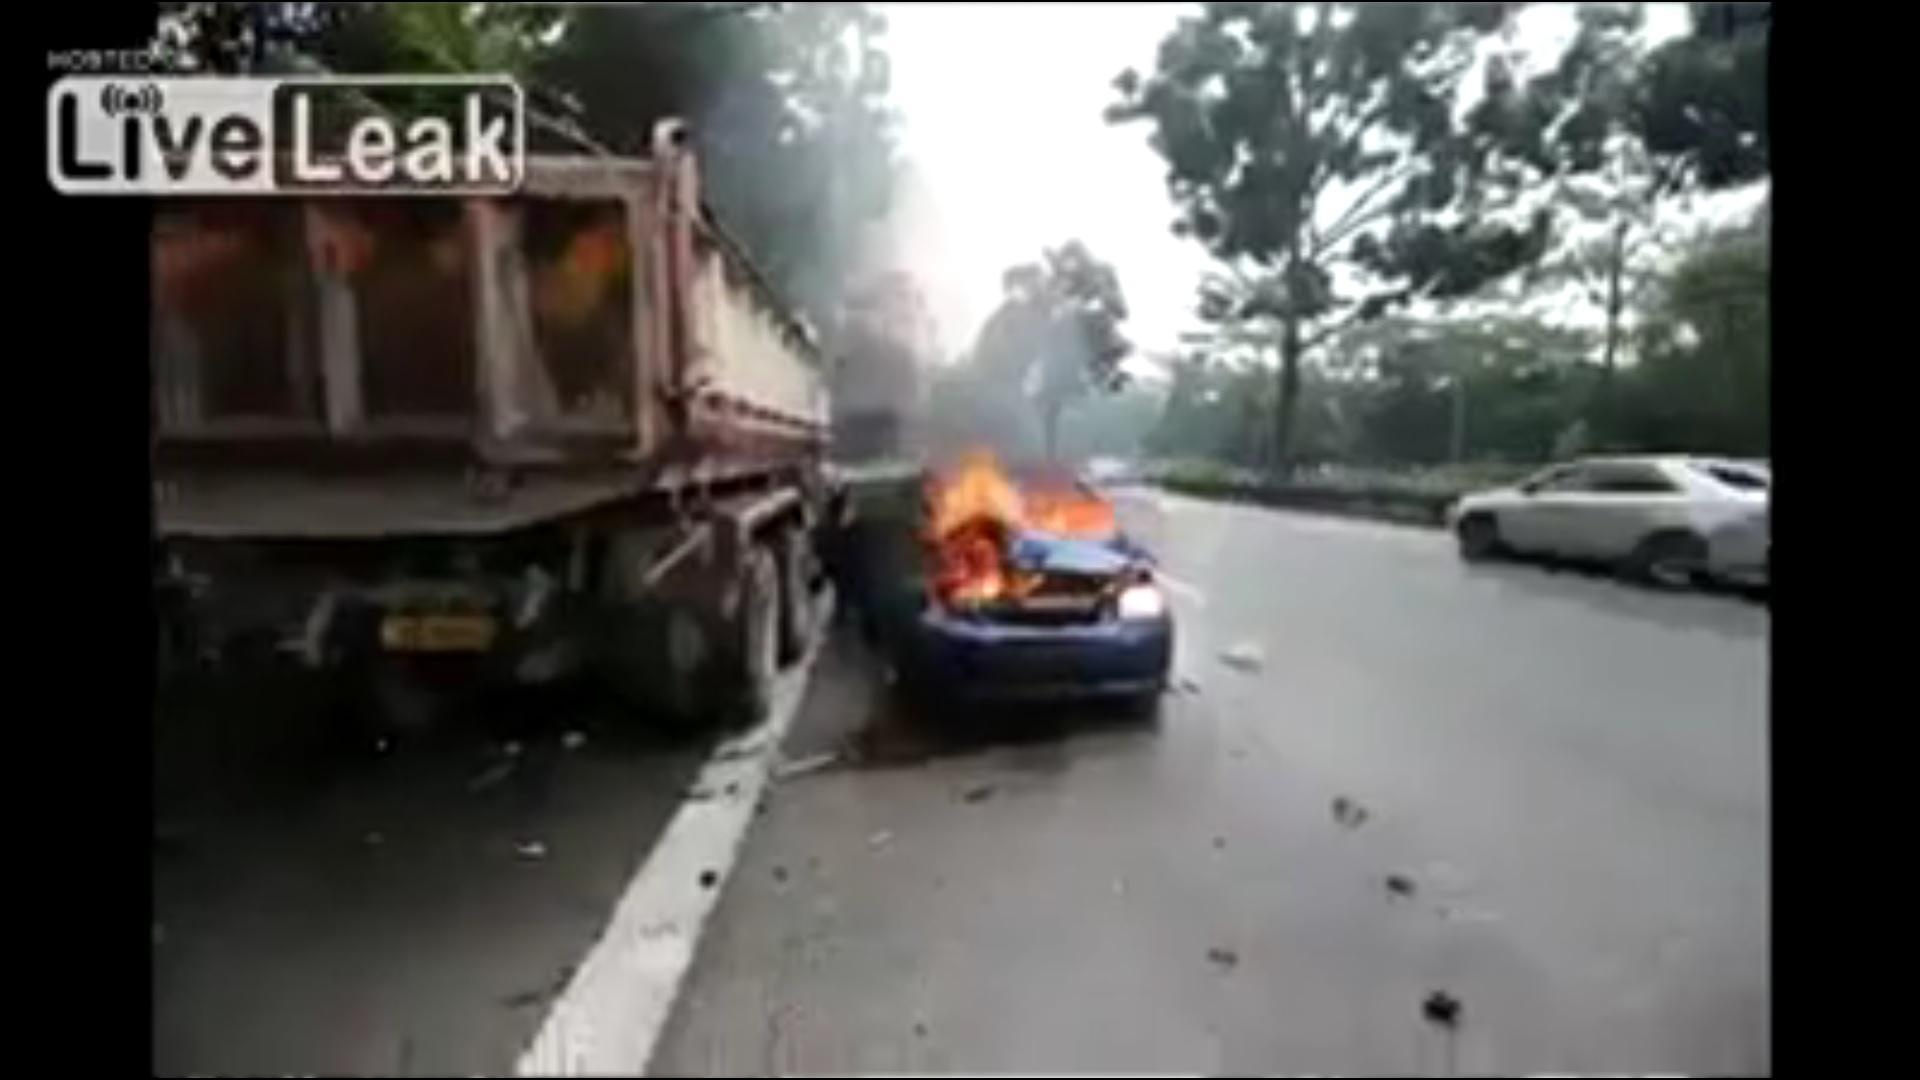fire: (923, 458, 1112, 604)
